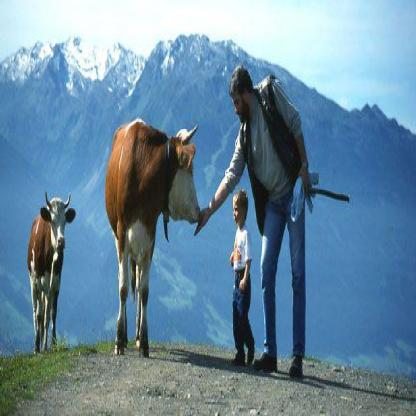cow: (106, 119, 199, 354), (28, 198, 76, 352)
